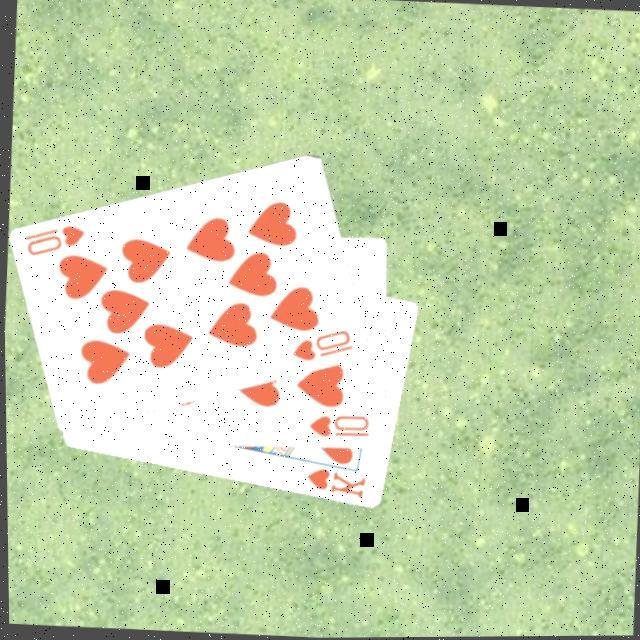10H: (285, 324, 354, 366), (18, 218, 87, 260), (302, 410, 370, 442)
KH: (299, 464, 366, 502)
